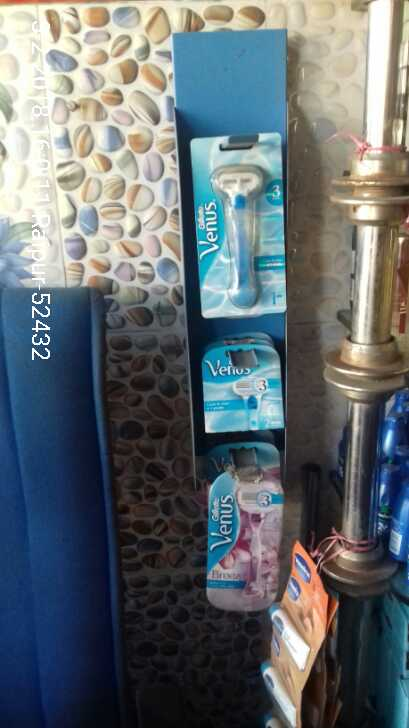venus: (194, 135, 288, 315), (210, 466, 286, 609), (205, 351, 280, 430)
